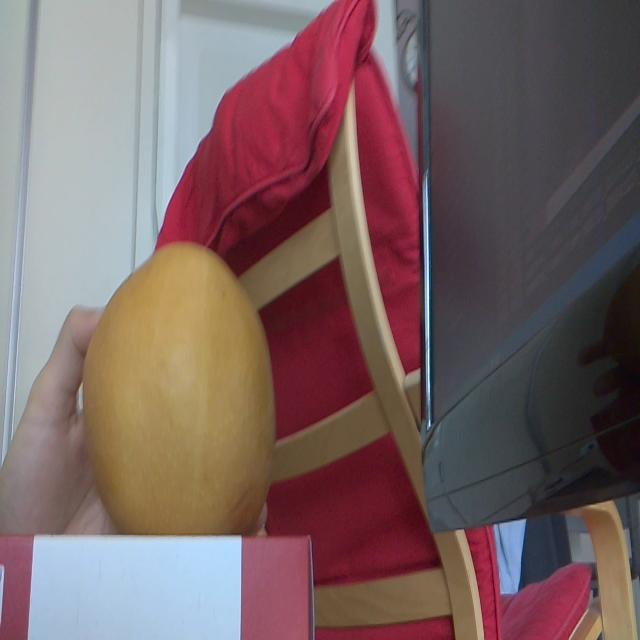pear: (85, 241, 276, 531)
